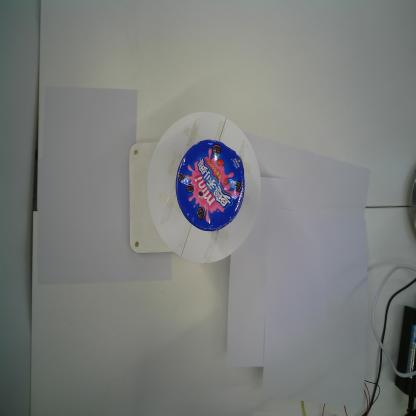Dessert: (175, 139, 247, 233)
